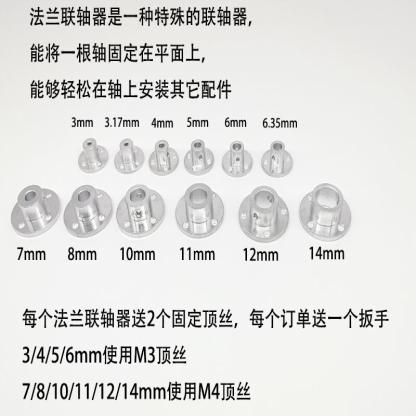FOD: (296, 180, 352, 244), (236, 184, 292, 247), (172, 181, 226, 241), (61, 180, 114, 240), (113, 181, 167, 239), (9, 184, 61, 240), (74, 133, 110, 177), (260, 138, 296, 178), (146, 136, 181, 177), (220, 140, 255, 180), (184, 135, 215, 178), (113, 134, 145, 175)
